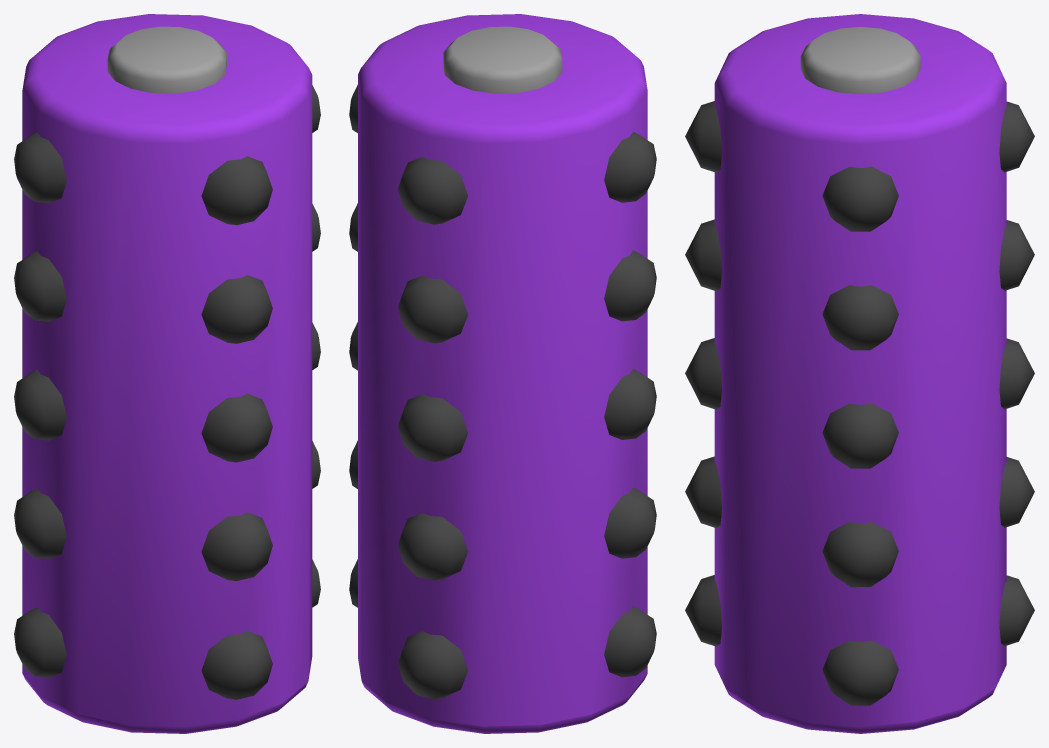
Rendered from OBS0110188.fbx.
3 views of the same model, side by side, from view 1: azimuth 30°, elevation 25°; view 2: azimuth 150°, elevation 25°; view 3: azimuth 270°, elevation 25° (orthographic).
Visible parts, largest first — view 1: smOBS0110188; view 2: smOBS0110188; view 3: smOBS0110188.
Boxes of the visible parts, x1,y1,x2,y2 form: smOBS0110188: [14, 14, 320, 733]; smOBS0110188: [349, 14, 656, 733]; smOBS0110188: [685, 14, 1034, 733].
Bounding box in the file's own units: 159 × 327 × 159.
Materials: 1 (1 with a texture image).
